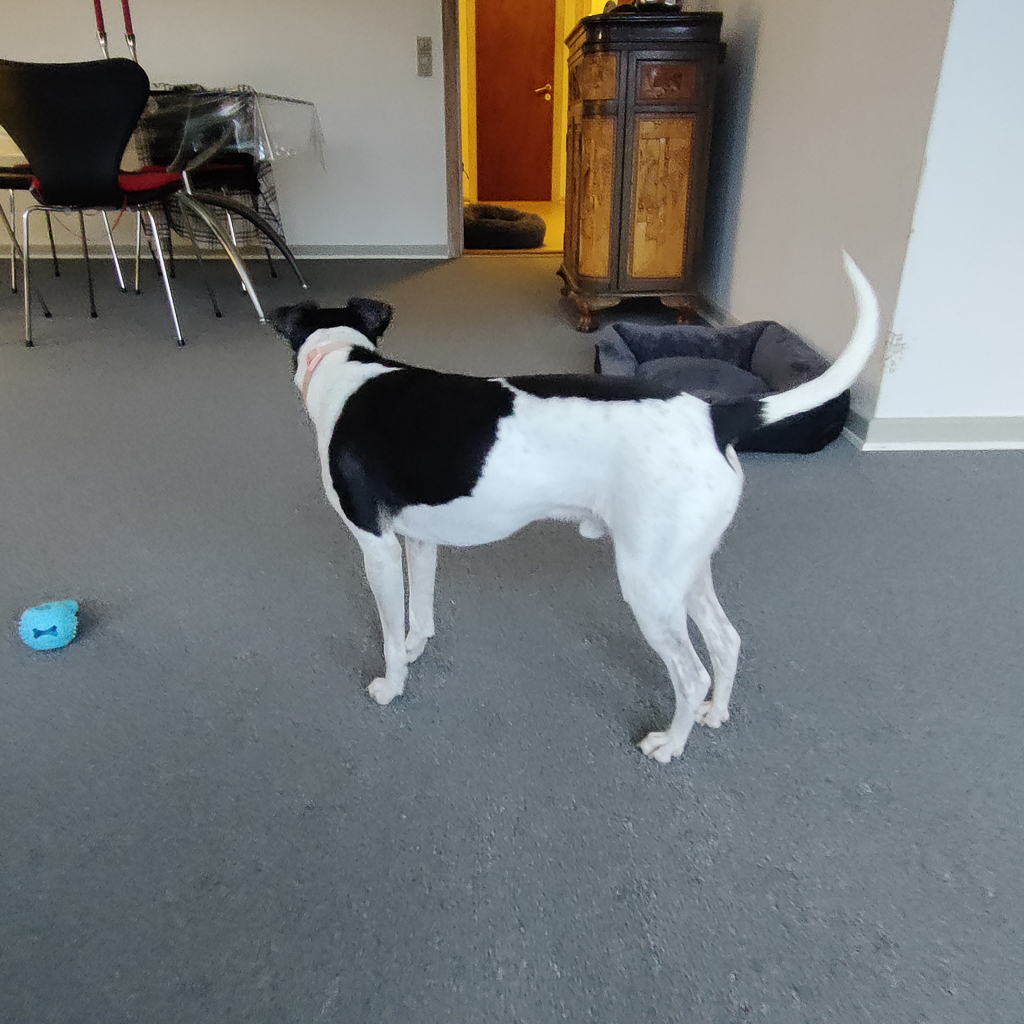Dog: (247, 224, 901, 770)
